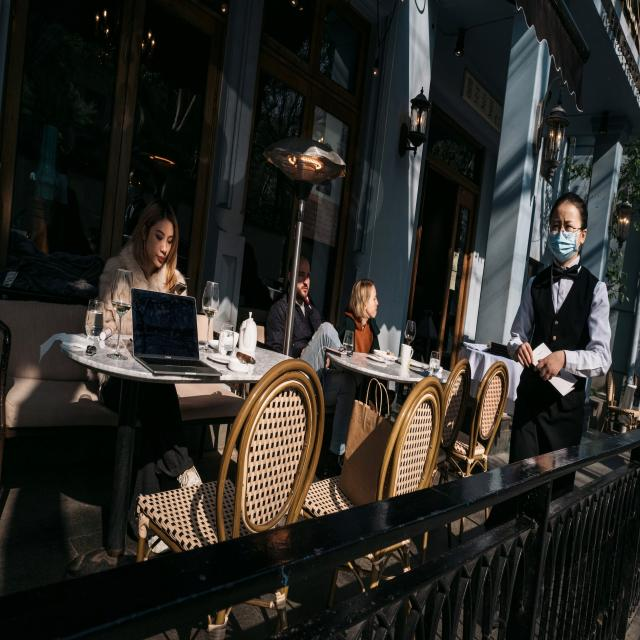adult: (508, 192, 611, 494), (97, 193, 188, 335), (264, 246, 344, 374), (338, 278, 381, 357)
